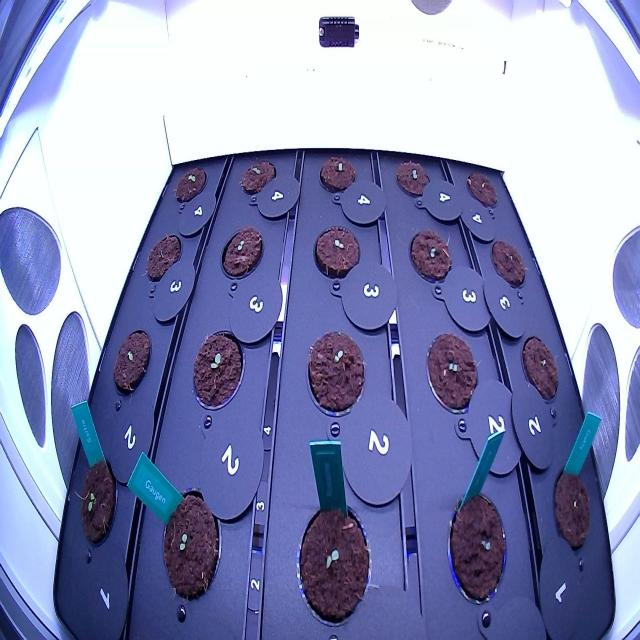germination: (290, 492, 375, 630), (160, 488, 228, 606), (444, 494, 511, 606), (304, 326, 368, 420), (188, 319, 248, 415), (424, 326, 484, 418), (74, 451, 122, 551), (308, 220, 362, 288), (217, 218, 266, 290), (404, 224, 456, 286), (238, 154, 279, 202), (393, 157, 433, 201), (173, 162, 209, 208)
pod: (550, 460, 592, 558), (517, 327, 562, 407), (109, 324, 154, 402), (144, 228, 186, 292), (486, 231, 529, 293), (314, 150, 360, 197), (462, 160, 502, 213)
